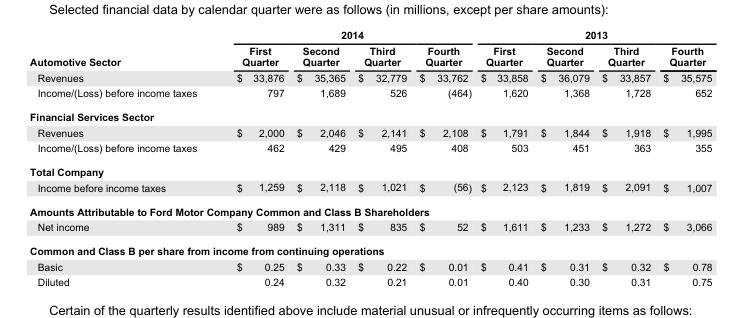table: (29, 28, 711, 287)
table column: (29, 28, 216, 287), (216, 28, 289, 287), (412, 28, 475, 287), (289, 28, 351, 287), (533, 28, 595, 287), (351, 28, 412, 287), (595, 28, 656, 287), (475, 28, 533, 287), (656, 28, 711, 287)
table column header: (29, 28, 711, 69)
table projected row header: (29, 104, 711, 124), (29, 159, 711, 179), (29, 238, 711, 258), (29, 199, 711, 218)
table row: (29, 42, 711, 69), (29, 84, 711, 104), (29, 104, 711, 124), (29, 139, 711, 159), (29, 159, 711, 179), (29, 179, 711, 199), (29, 218, 711, 238), (29, 238, 711, 258), (29, 199, 711, 218), (29, 69, 711, 84), (29, 124, 711, 139), (29, 258, 711, 273), (29, 28, 711, 42), (29, 273, 711, 287)
table spanning cell: (29, 28, 216, 69), (216, 28, 475, 42), (475, 28, 711, 42)
